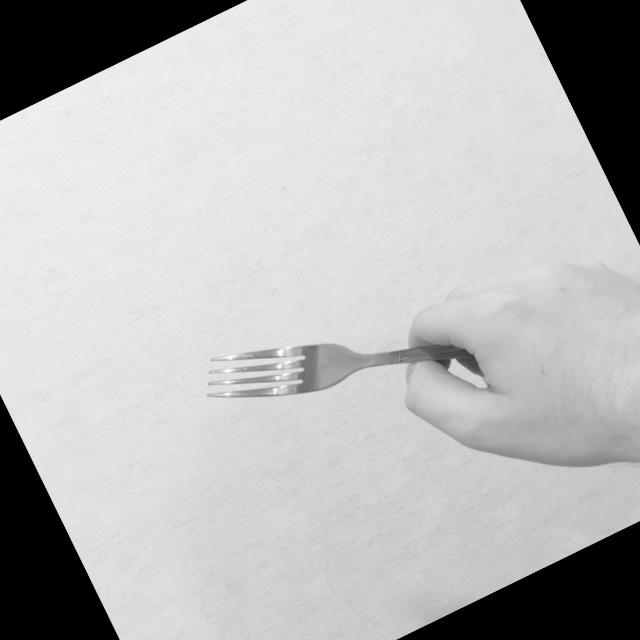fork: (190, 231, 526, 485)
